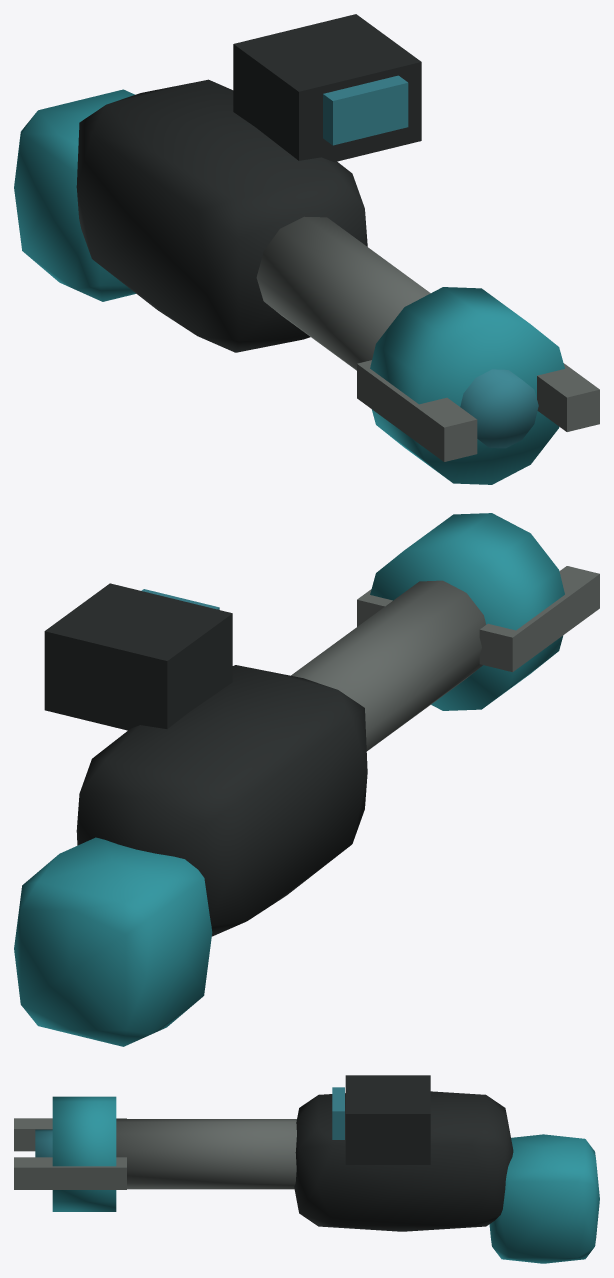
Rendered from Bastion_Engineer_Weapon.obj.
3 renders of one model, top to bottom at view 1: azimuth 30°, elevation 25°; view 2: azimuth 150°, elevation 25°; view 3: azimuth 270°, elevation 25°, orthographic. The views are drawn at different scales.
Visible parts, largest first — view 1: ToolBody, EmitterRing, DisplayBase, EmitterBarrel, Battery, LeftProng, Display, EmitterCore, RightProng; view 2: ToolBody, Battery, DisplayBase, EmitterBarrel, EmitterRing, LeftProng; view 3: ToolBody, EmitterBarrel, Battery, DisplayBase, EmitterRing, RightProng, LeftProng, Display, EmitterCore.
Part boxes in pixels (left/top/right/bottom): ToolBody: left=76, top=79, right=367, bottom=352; EmitterRing: left=370, top=287, right=564, bottom=484; DisplayBase: left=233, top=14, right=421, bottom=161; EmitterBarrel: left=256, top=216, right=430, bottom=370; Battery: left=14, top=89, right=135, bottom=301; LeftProng: left=357, top=360, right=477, bottom=461; Display: left=323, top=75, right=408, bottom=145; EmitterCore: left=460, top=369, right=538, bottom=448; RightProng: left=537, top=363, right=599, bottom=431; ToolBody: left=76, top=665, right=367, bottom=936; Battery: left=14, top=837, right=212, bottom=1046; DisplayBase: left=44, top=583, right=232, bottom=730; EmitterBarrel: left=291, top=580, right=485, bottom=751; EmitterRing: left=370, top=513, right=564, bottom=710; LeftProng: left=479, top=566, right=599, bottom=672; ToolBody: left=294, top=1091, right=513, bottom=1231; EmitterBarrel: left=116, top=1119, right=296, bottom=1189; Battery: left=489, top=1134, right=599, bottom=1263; DisplayBase: left=345, top=1075, right=430, bottom=1164; EmitterRing: left=52, top=1096, right=116, bottom=1211; RightProng: left=14, top=1157, right=126, bottom=1189; LeftProng: left=14, top=1118, right=126, bottom=1151; Display: left=332, top=1087, right=344, bottom=1139; EmitterCore: left=35, top=1129, right=52, bottom=1157.
Bounding box in the file's own units: 0.255 × 0.29 × 0.83.
Materials: 1 (1 with a texture image).
